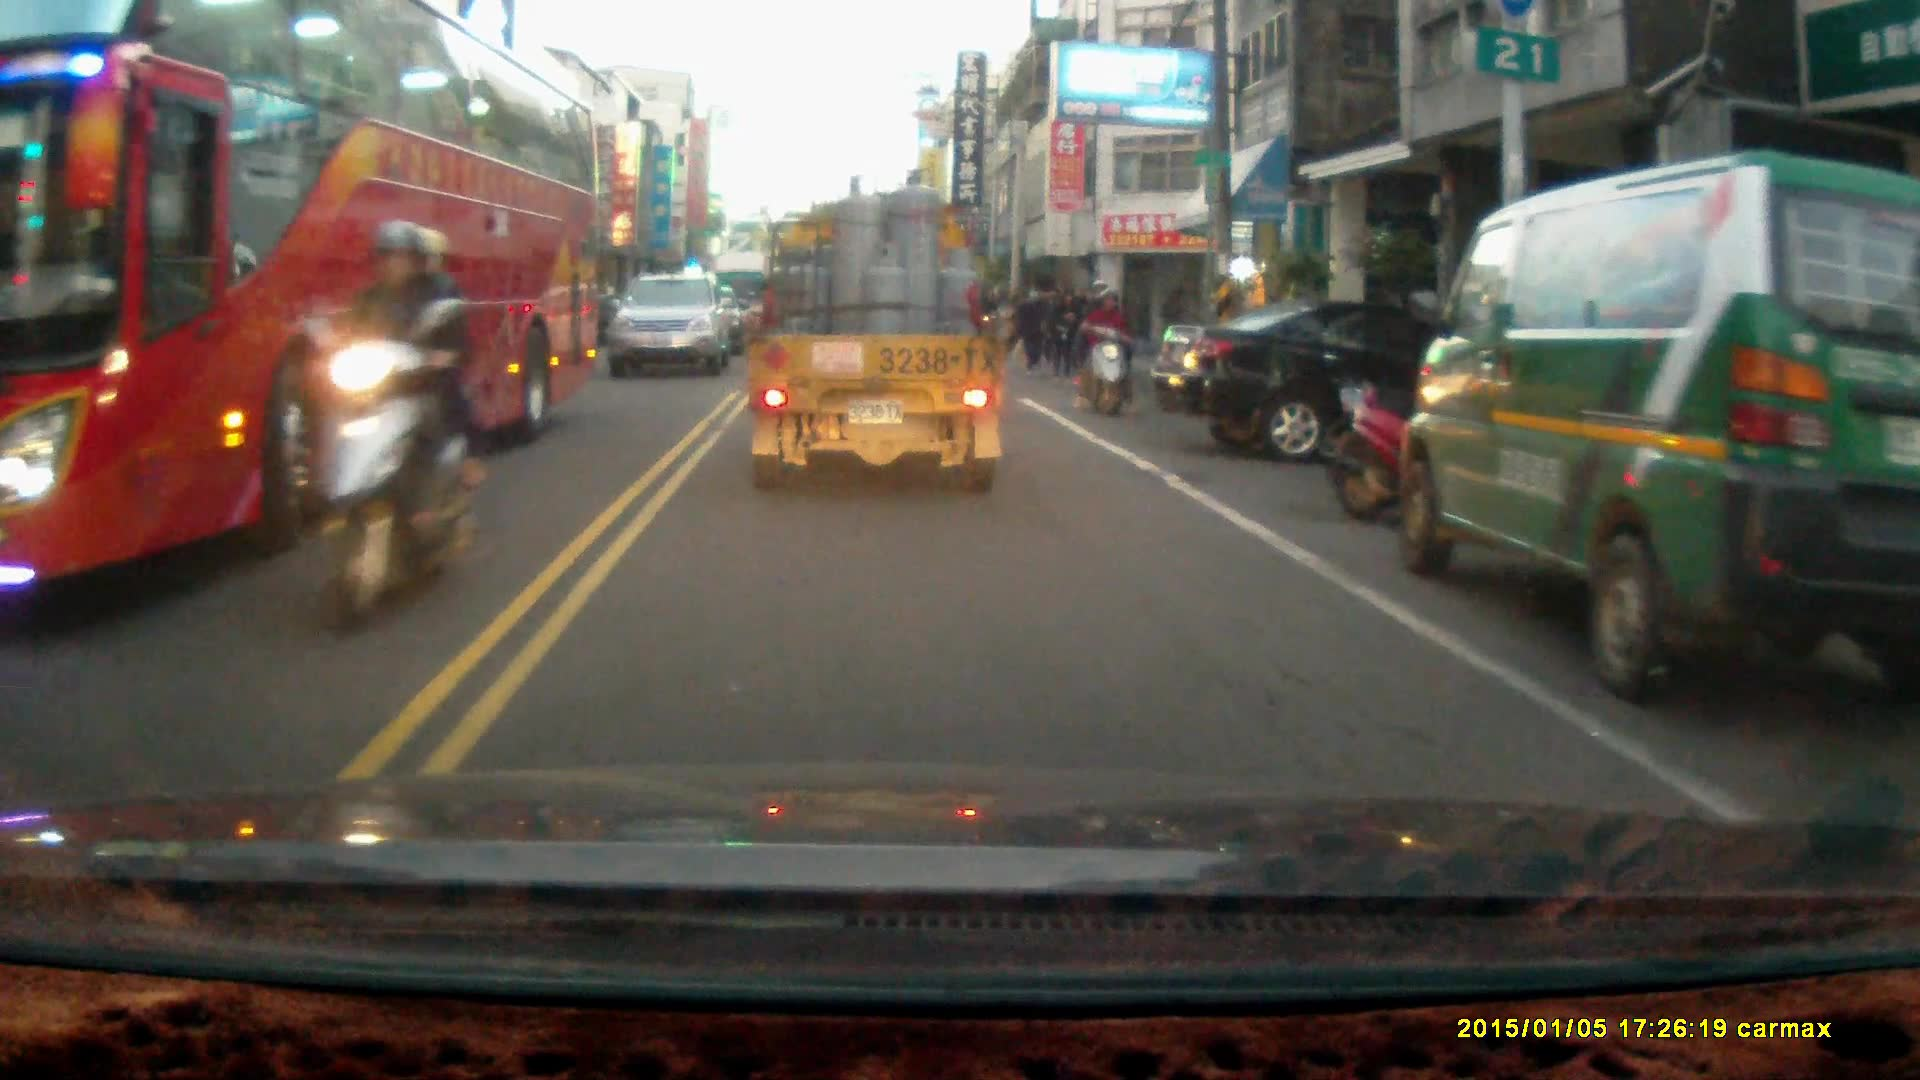pedestrian: (1050, 287, 1080, 383), (1018, 287, 1052, 369)
rider: (293, 218, 490, 635), (1079, 278, 1141, 420)
vehicle: (1, 7, 612, 596), (1404, 149, 1920, 704), (745, 168, 1009, 493), (1166, 298, 1472, 468), (608, 274, 735, 381)
